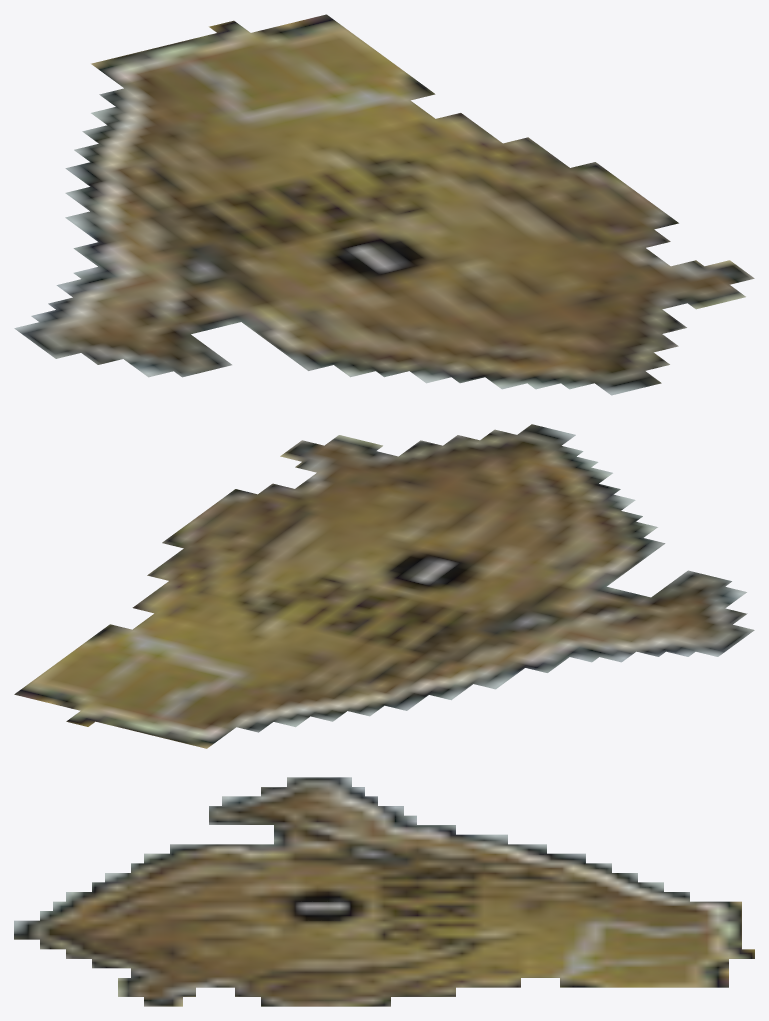
Rendered from syria-iraq.gltf.
The picture shows the model from 3 angles, top to bottom: view 1: azimuth 30°, elevation 25°; view 2: azimuth 150°, elevation 25°; view 3: azimuth 270°, elevation 25°; orthographic projection. The views are drawn at different scales.
Parts seen in each view (by area): view 1: Plane; view 2: Plane; view 3: Plane.
Part boxes in pixels (x1,y1,x2,y2): Plane: [14, 14, 754, 395]; Plane: [14, 424, 754, 748]; Plane: [14, 777, 754, 1006].
Bounding box in the file's own units: 0.2369 × 0 × 0.3237.
1 material, 1 textured.
